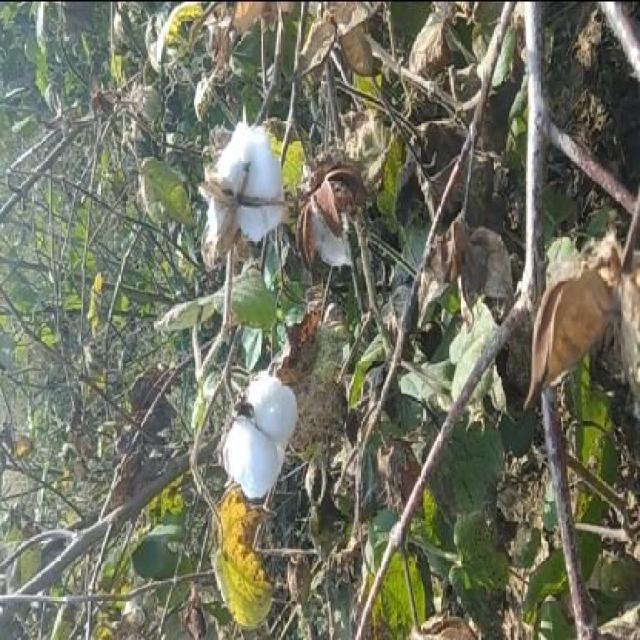cotton_ready: (194, 110, 295, 258), (219, 356, 299, 510)
